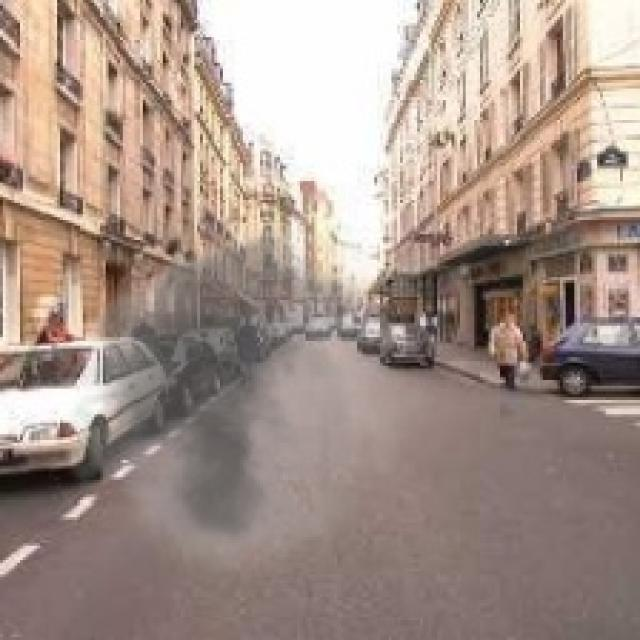smoke: (49, 206, 440, 574)
